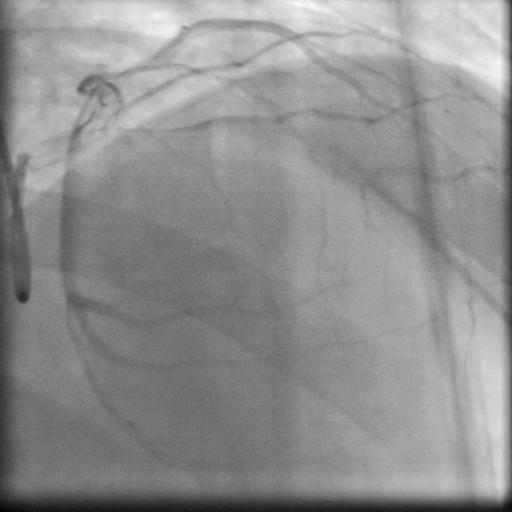Stenosis: (103, 54, 151, 86)
